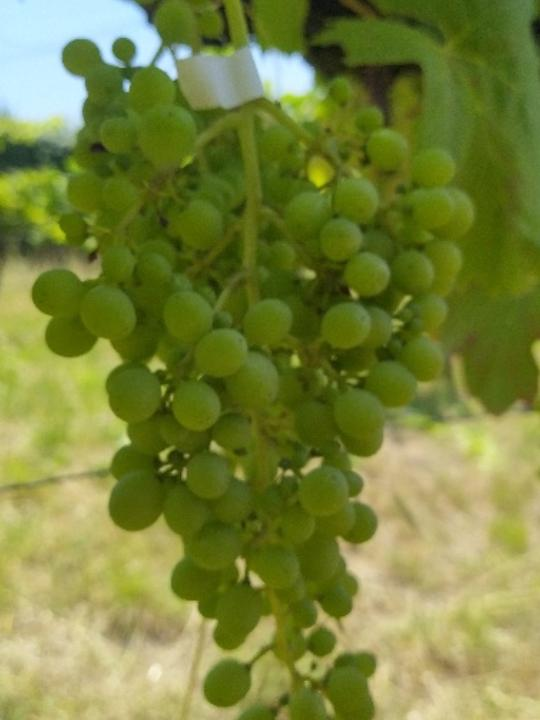grape: (29, 28, 482, 720)
